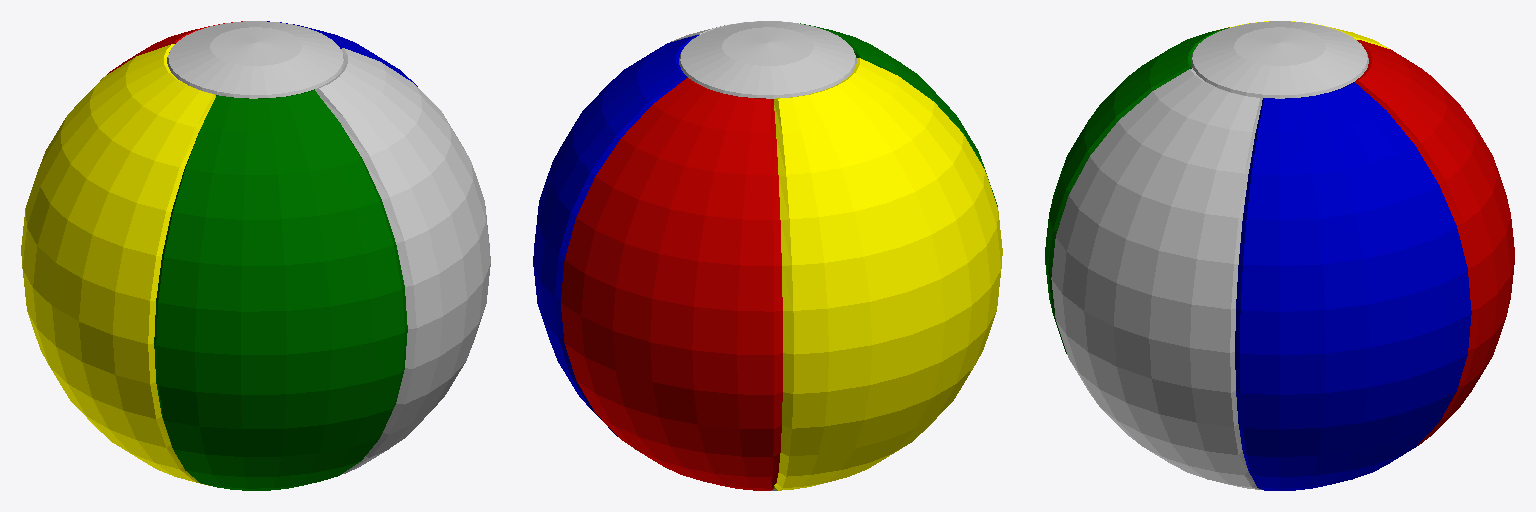
File: beachball.obj
3 renders of one model, left to right at view 1: azimuth 30°, elevation 25°; view 2: azimuth 150°, elevation 25°; view 3: azimuth 270°, elevation 25°, orthographic.
Parts seen in each view (by area): view 1: Sphere; view 2: Sphere; view 3: Sphere.
Part boxes in pixels (x1,y1,x2,y2): Sphere: (21, 21, 490, 490); Sphere: (533, 21, 1002, 490); Sphere: (1045, 21, 1514, 490).
Bounding box in the file's own units: 2 × 2 × 2.